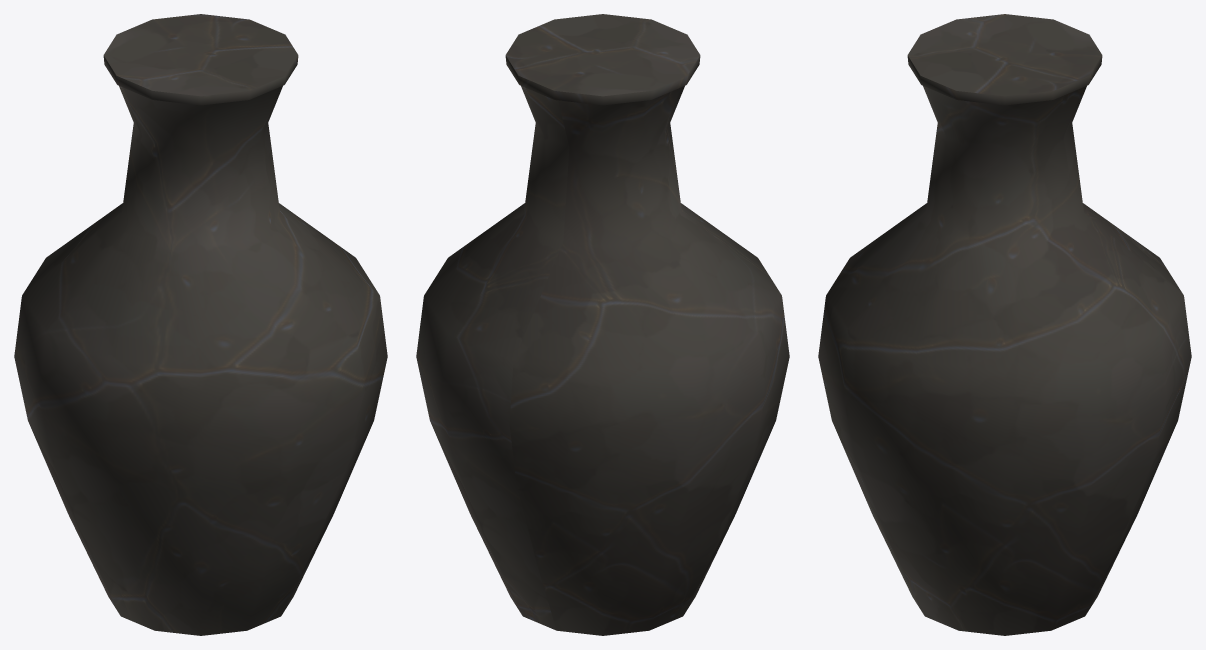
The model's file is Small vase.fbx.
3 renders of one model, left to right at view 1: azimuth 30°, elevation 25°; view 2: azimuth 150°, elevation 25°; view 3: azimuth 270°, elevation 25°, orthographic.
Visible parts, largest first — view 1: Small_Vase; view 2: Small_Vase; view 3: Small_Vase.
Part boxes in pixels (x1=…): Small_Vase: x1=14, y1=14, x2=387, y2=635; Small_Vase: x1=416, y1=14, x2=789, y2=635; Small_Vase: x1=818, y1=14, x2=1191, y2=635.
Bounding box in the file's own units: 0.2553 × 0.4086 × 0.2554.
